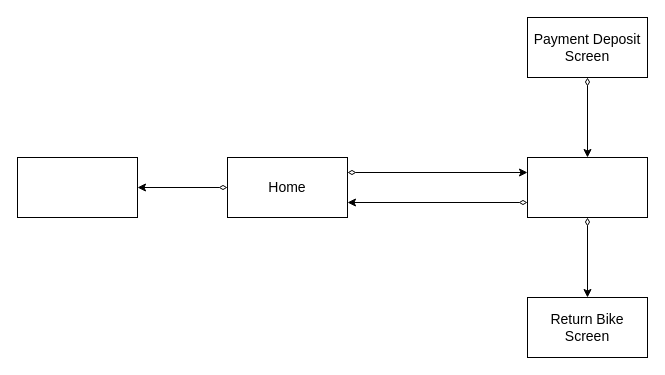
Some shapes in this 665 by 375 pixel diagram are drawn without their labels. The centre of each missing label's shape, as x and y in pixels:
"Not Renting Message" goes at (x=77, y=187).
"Renting Screen" goes at (x=587, y=187).
